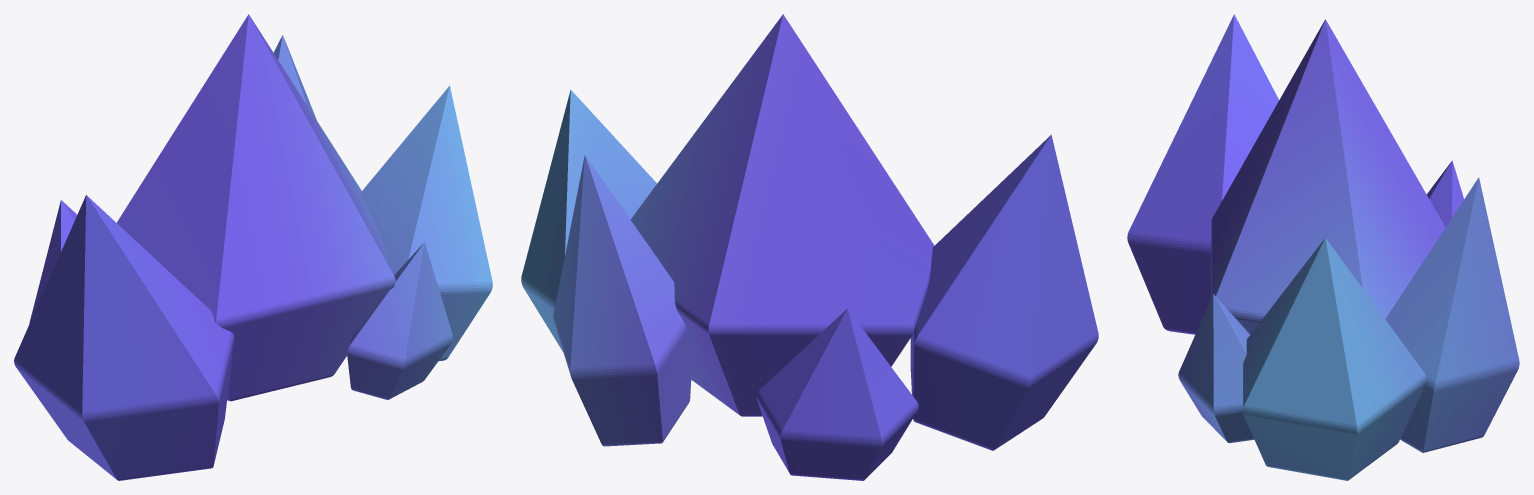
Rendered from Cristal Azul.fbx.
The picture shows the model from 3 angles, left to right: view 1: azimuth 30°, elevation 25°; view 2: azimuth 150°, elevation 25°; view 3: azimuth 270°, elevation 25°; orthographic projection. The views are drawn at different scales.
Parts seen in each view (by area): view 1: Cristal Azul - Adentro; view 2: Cristal Azul - Adentro; view 3: Cristal Azul - Adentro.
Boxes of the visible parts, box(x1,y1,x2,y2) form: Cristal Azul - Adentro: box(14, 14, 492, 480); Cristal Azul - Adentro: box(521, 14, 1098, 480); Cristal Azul - Adentro: box(1127, 14, 1519, 480).
Size of the model in its own units: 49.4 by 38.55 by 35.99.
1 material, 1 textured.
